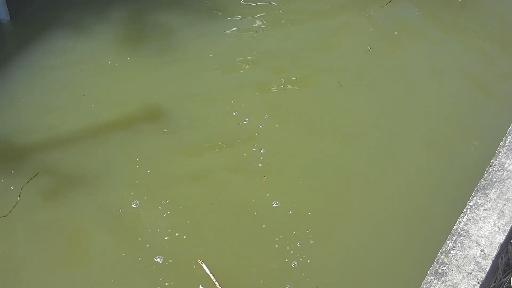twig: (0, 169, 39, 227), (197, 253, 243, 288)
